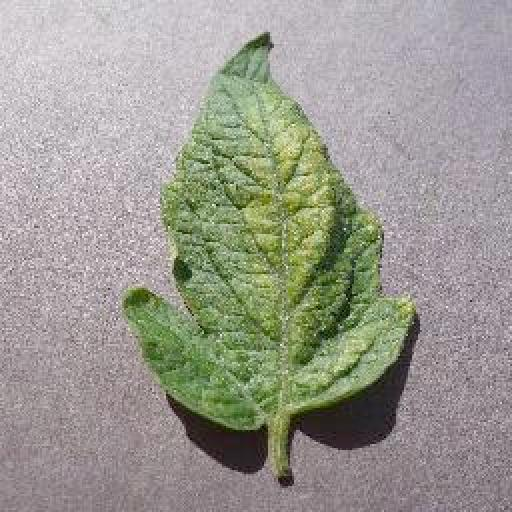disease_tomato: (124, 30, 418, 432)
